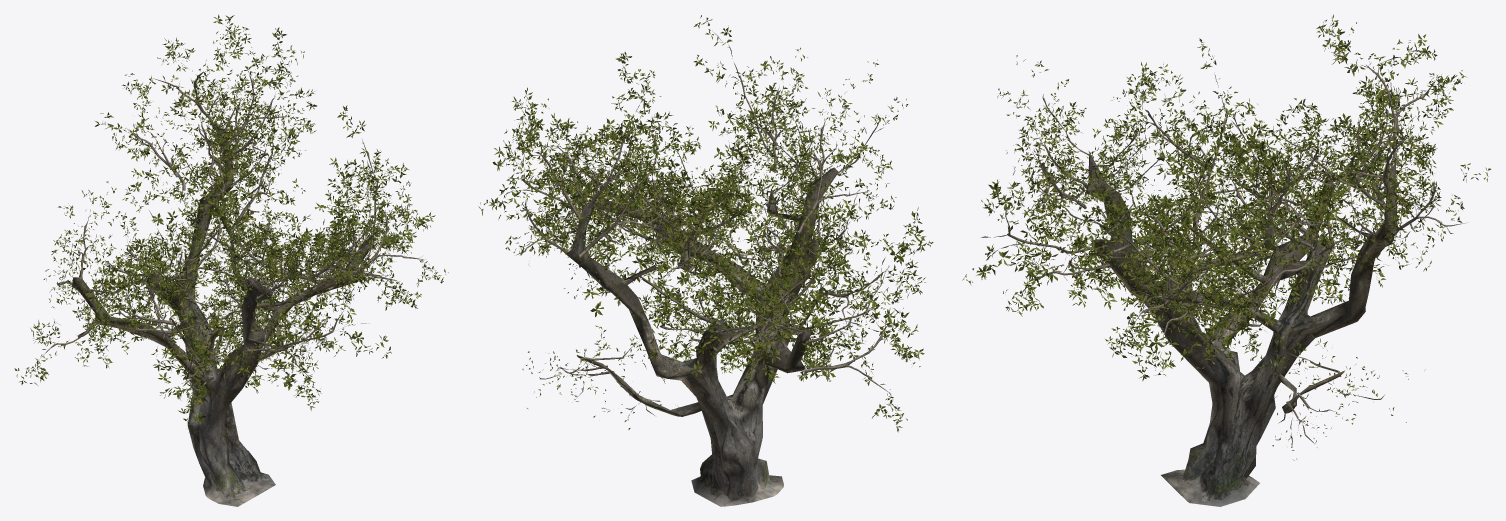
The model's file is island_tree_01.glb.
3 views of the same model, side by side, from view 1: azimuth 30°, elevation 25°; view 2: azimuth 150°, elevation 25°; view 3: azimuth 270°, elevation 25° (orthographic). The views are drawn at different scales.
Parts seen in each view (by area): view 1: island_tree_01_LOD0; view 2: island_tree_01_LOD0; view 3: island_tree_01_LOD0.
Boxes of the visible parts, left/top/right/bottom form: island_tree_01_LOD0: left=14, top=14, right=448, bottom=506; island_tree_01_LOD0: left=478, top=15, right=933, bottom=506; island_tree_01_LOD0: left=962, top=14, right=1491, bottom=506.
Size of the model in its own units: 4.74 by 5.02 by 4.81.
Materials: 3 (3 with a texture image).
